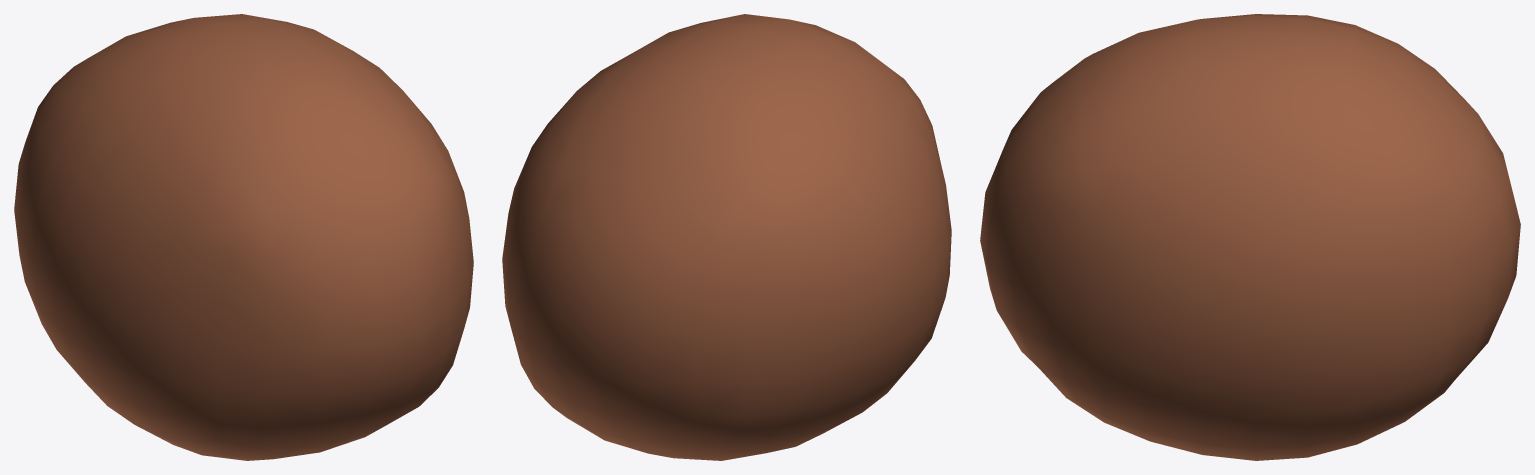
File: Kiwi_01.dae
The picture shows the model from 3 angles, left to right: view 1: azimuth 30°, elevation 25°; view 2: azimuth 150°, elevation 25°; view 3: azimuth 270°, elevation 25°; orthographic projection.
Visible parts, largest first — view 1: Kiwi_01_LOD0; view 2: Kiwi_01_LOD0; view 3: Kiwi_01_LOD0.
Boxes of the visible parts, <box> form: Kiwi_01_LOD0: <box>14,14,473,460</box>; Kiwi_01_LOD0: <box>502,14,951,460</box>; Kiwi_01_LOD0: <box>980,14,1520,460</box>.
Size of what is drawn, in the model's own units: 3.16 by 3.9 by 3.18.
